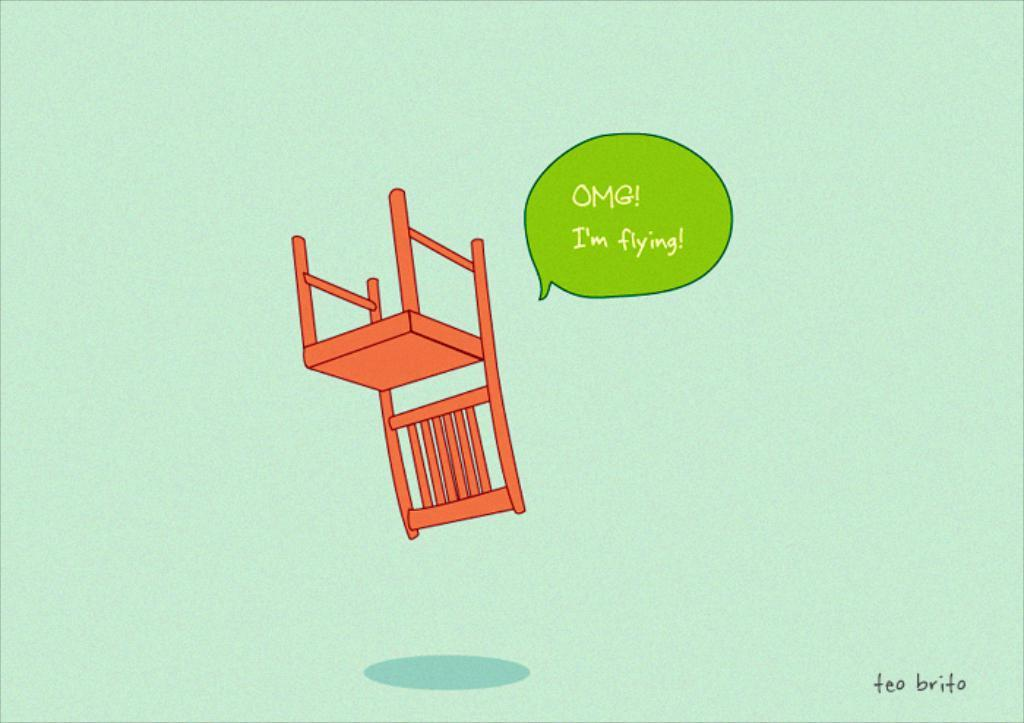Chair: (287, 180, 530, 544)
